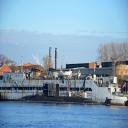submarine: (16, 97, 114, 104)
